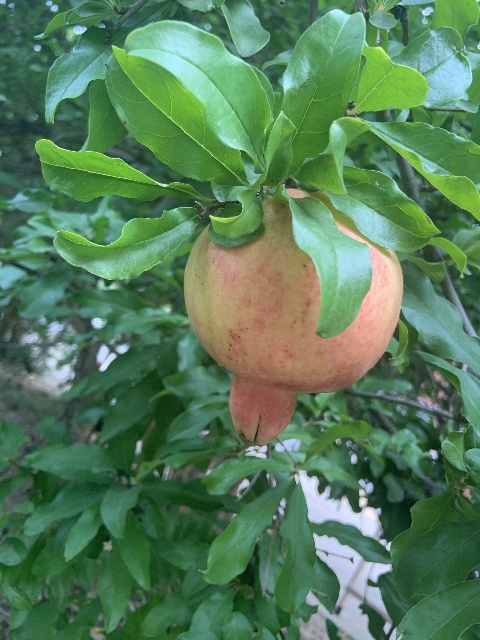ripe: (183, 188, 403, 445)
